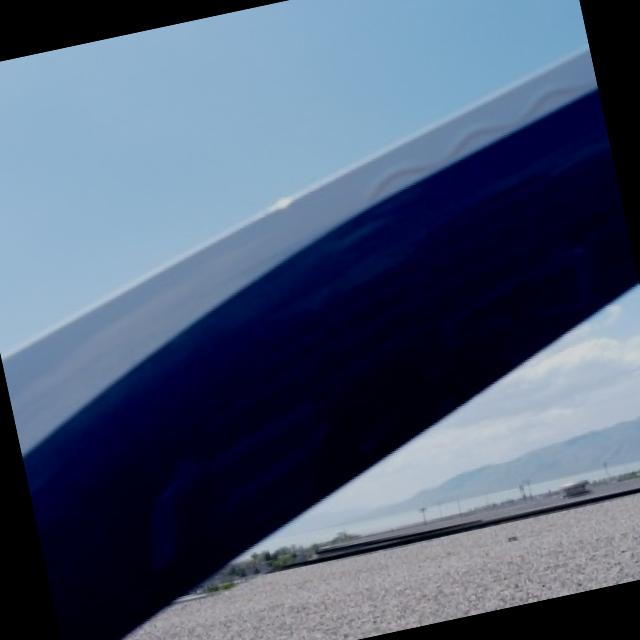healthy: (5, 47, 636, 640)
